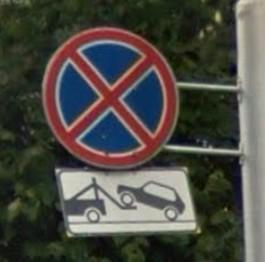No Parking: (41, 26, 180, 173)
